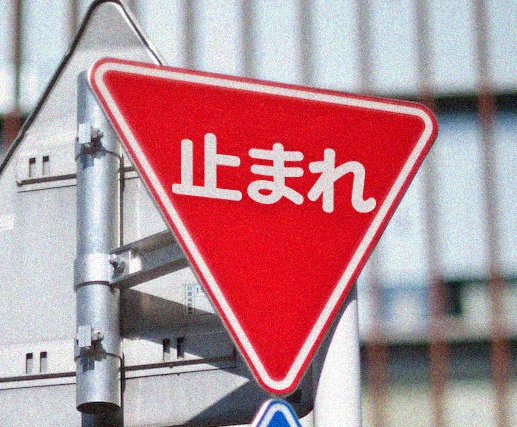Regulatory_sign_triangle: (85, 49, 451, 403)
